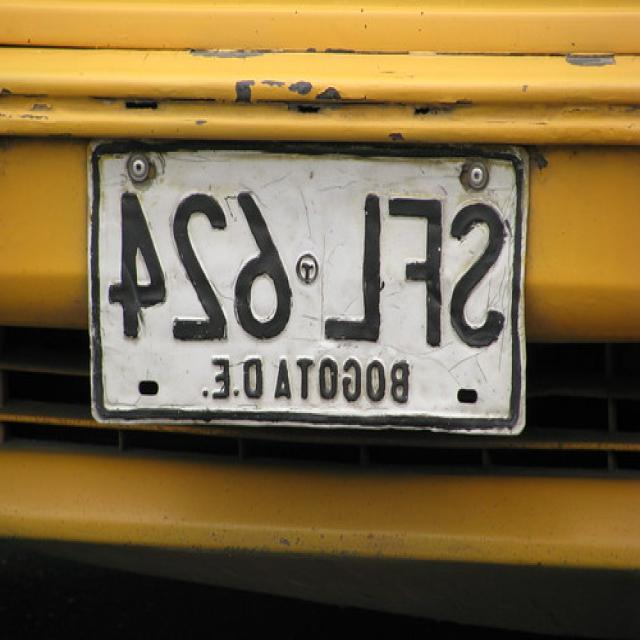placas: (95, 177, 518, 357)
